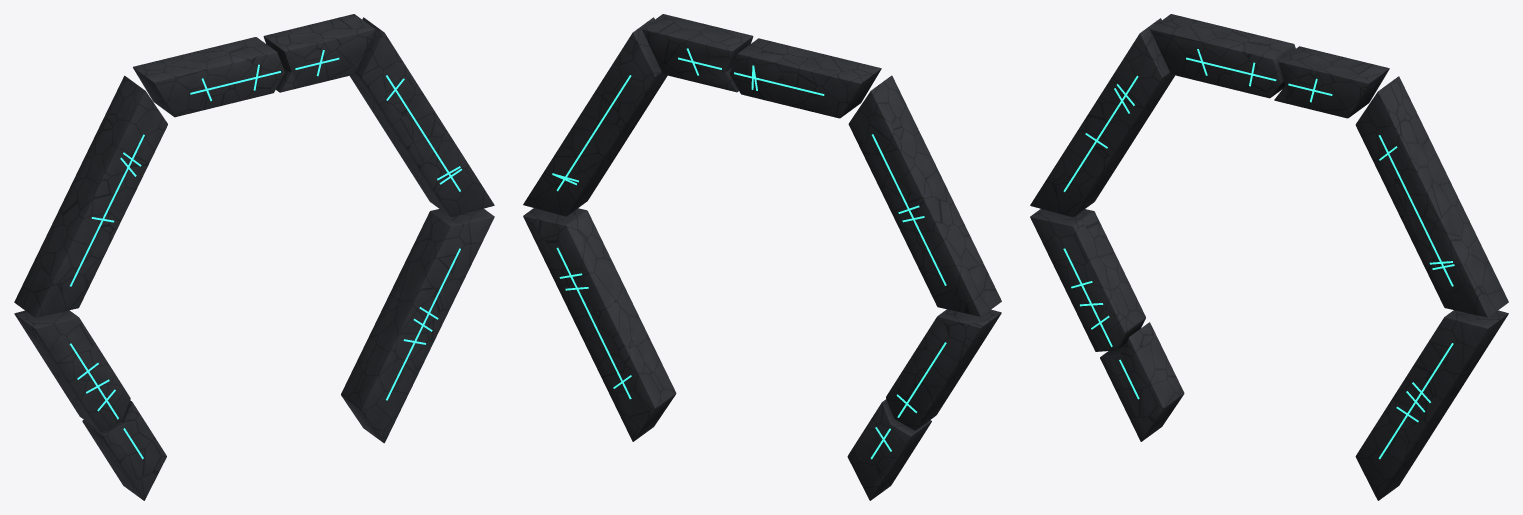
File: dormant_gate.glb
The picture shows the model from 3 angles, left to right: view 1: azimuth 30°, elevation 25°; view 2: azimuth 150°, elevation 25°; view 3: azimuth 330°, elevation 25°; orthographic projection.
Visible parts, largest first — view 1: DormantGate; view 2: DormantGate; view 3: DormantGate.
Boxes of the visible parts, box(x1,y1,x2,y2) form: DormantGate: box(14, 14, 494, 500); DormantGate: box(523, 14, 1001, 500); DormantGate: box(1030, 14, 1508, 500).
Size of the model in its own units: 29.6 by 25.65 by 2.6.
Materials: 2 (1 with a texture image).
